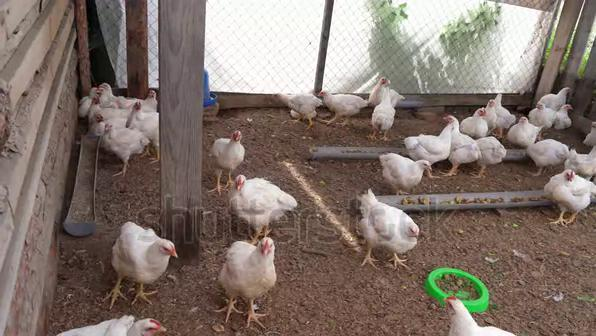Pollos: (111, 219, 178, 284), (358, 188, 420, 252), (222, 237, 280, 296), (234, 173, 297, 222), (445, 297, 501, 334), (544, 168, 595, 208), (381, 152, 432, 185), (318, 90, 365, 122), (101, 122, 148, 153), (275, 90, 320, 122), (214, 130, 246, 169), (523, 140, 571, 163), (371, 100, 396, 141), (366, 74, 401, 101), (125, 101, 160, 128), (508, 114, 536, 142), (462, 108, 491, 132), (532, 102, 558, 125), (443, 114, 458, 143)
